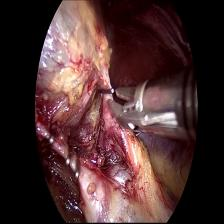Clipper: (104, 78, 186, 137)
